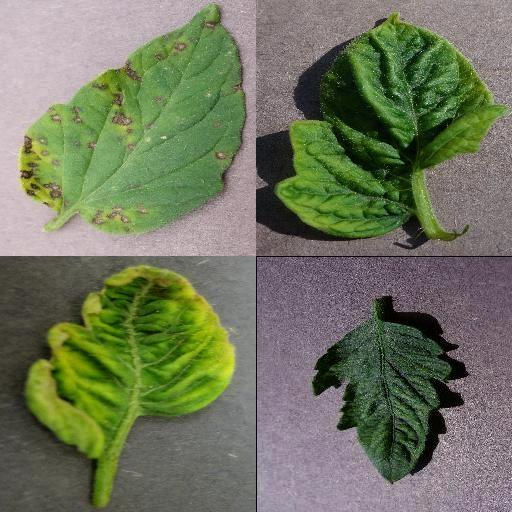Mosaic Virus: (311, 319, 453, 485)
Septoria: (20, 4, 248, 236)
Yellow Leaf Curl Virus: (273, 13, 508, 237), (24, 266, 236, 462)
